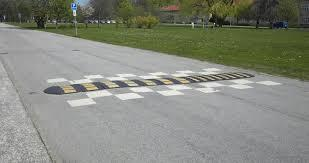Bump: (45, 69, 259, 98)
